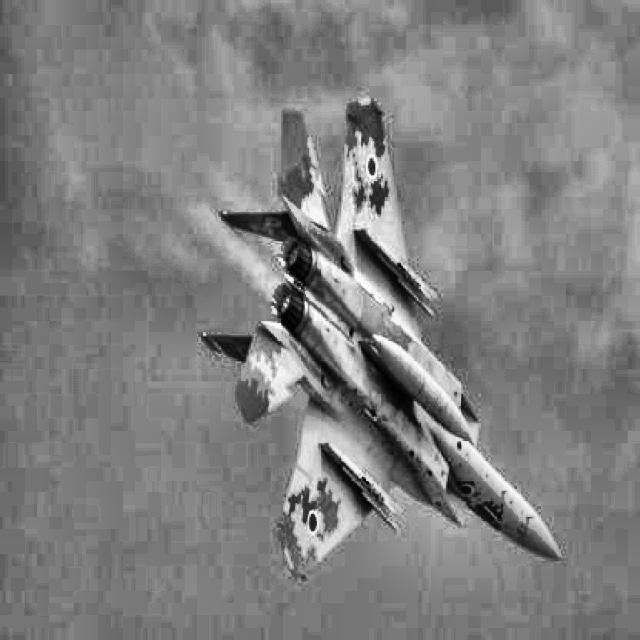F15: (199, 97, 561, 580)
